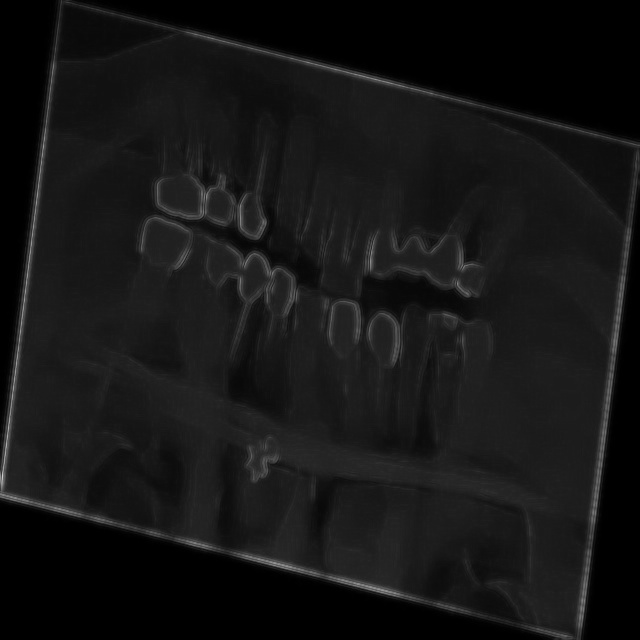Class 1- complete endodontic treatment: (124, 67, 222, 223), (414, 143, 494, 311), (245, 248, 302, 411)
Class 2- incomplete endodontic treatment: (99, 197, 200, 362)
